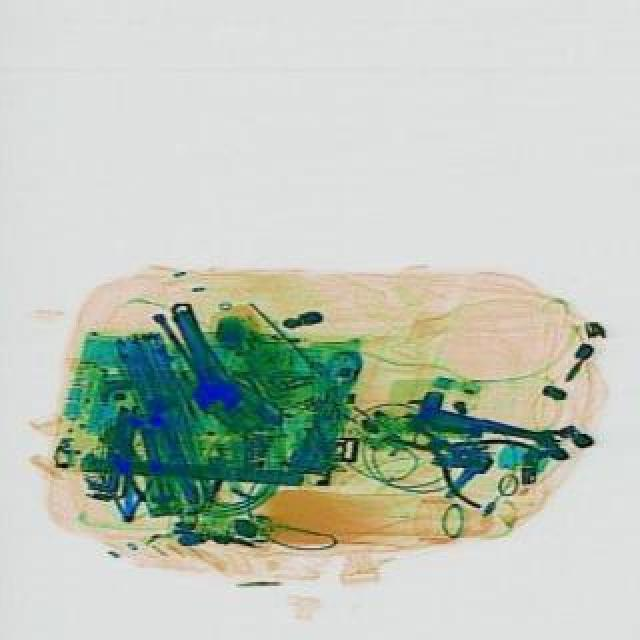scissors: (156, 294, 242, 418), (400, 398, 562, 446)
